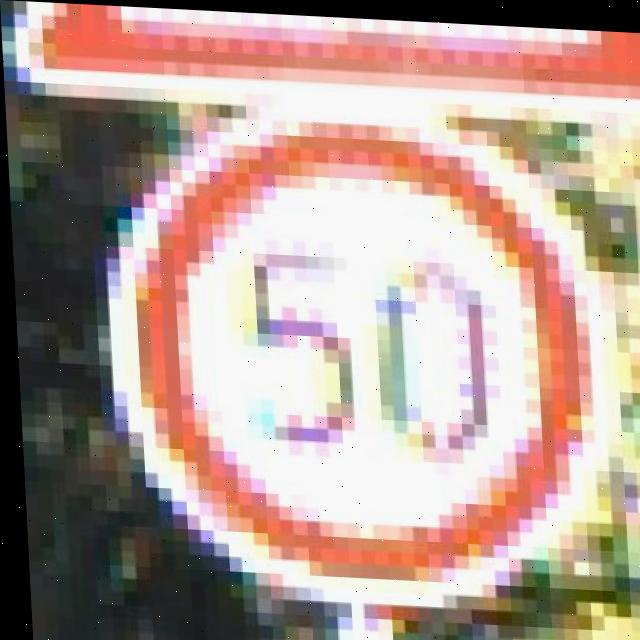Speed limit 50: (11, 1, 640, 640)
